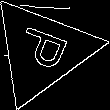P_E: (10, 24, 75, 77)
